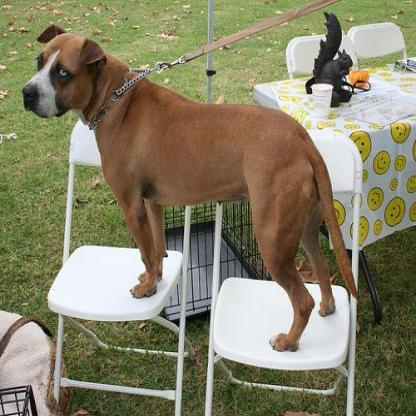boxer: (14, 15, 361, 352)
